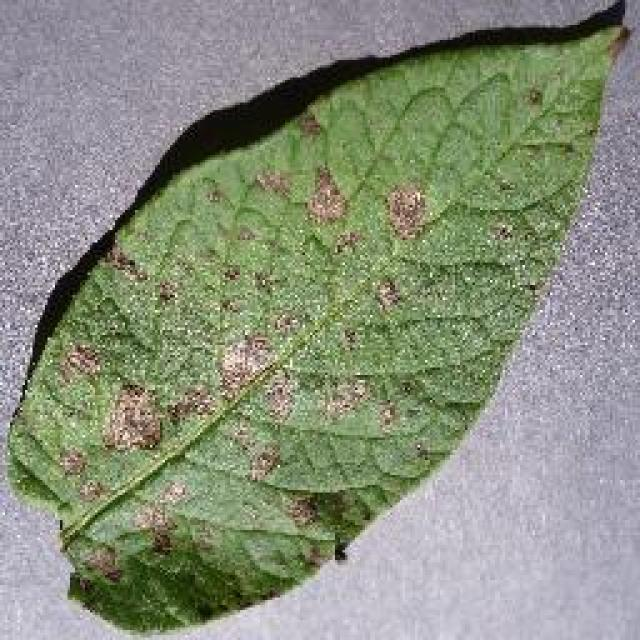early_blight: (2, 15, 630, 637)
